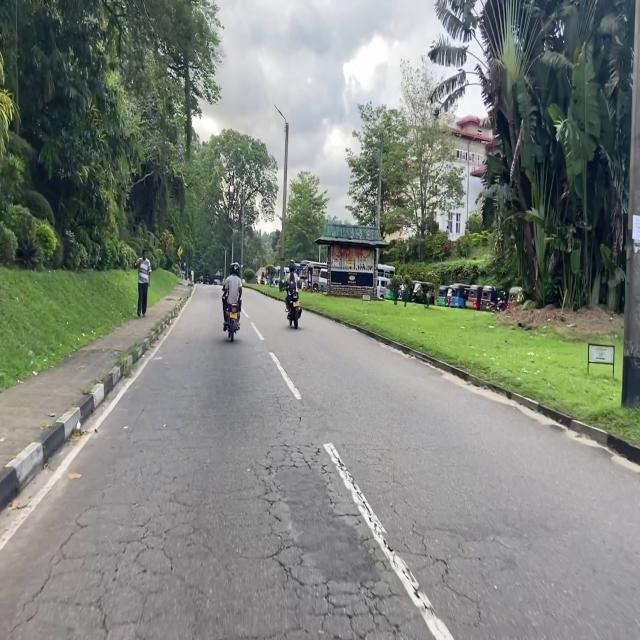bus: (300, 260, 327, 290), (378, 264, 395, 278)
motorcycle: (288, 293, 302, 328), (227, 305, 239, 341)
person: (222, 263, 242, 331), (136, 249, 151, 317), (285, 260, 298, 319)
three wheeler: (412, 281, 434, 305), (449, 284, 469, 308), (481, 286, 497, 310), (466, 286, 482, 309), (438, 287, 447, 306), (446, 286, 451, 306)
van: (318, 268, 327, 293), (377, 277, 387, 298)
